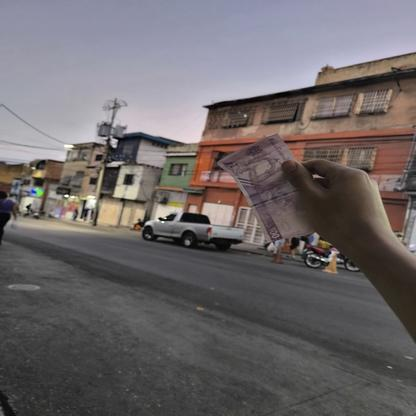one_hundred-back-vef: (216, 131, 316, 244)
